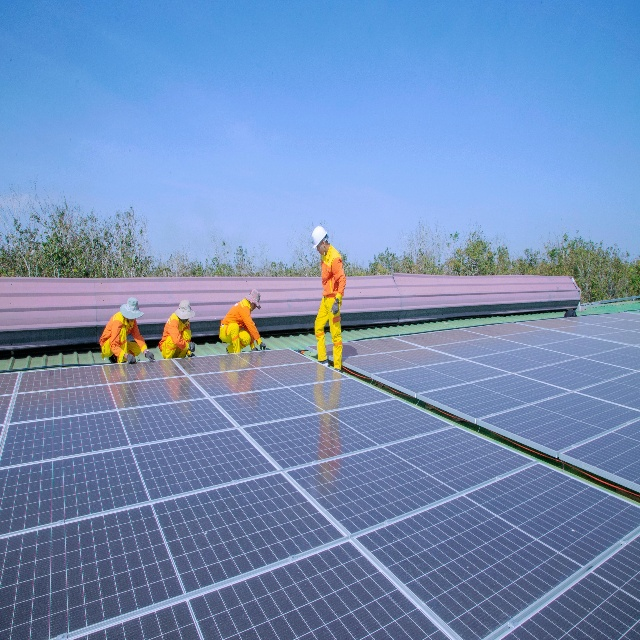Guantes: (146, 350, 155, 363), (330, 302, 339, 315), (126, 353, 137, 363), (260, 341, 267, 352), (188, 341, 195, 351), (188, 352, 195, 358), (251, 345, 257, 351)
